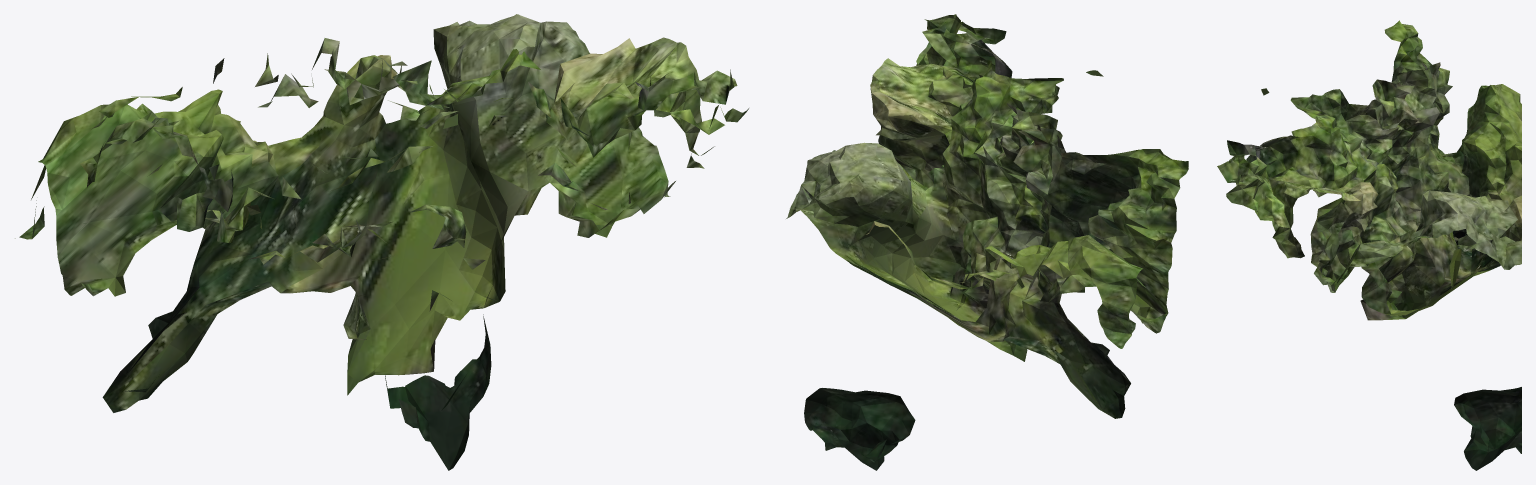
The picture shows the model from 3 angles, left to right: view 1: azimuth 30°, elevation 25°; view 2: azimuth 150°, elevation 25°; view 3: azimuth 270°, elevation 25°; orthographic projection. The views are drawn at different scales.
Bounding box in the file's own units: 26.11 × 25 × 20.89.
Materials: 4 (4 with a texture image).
